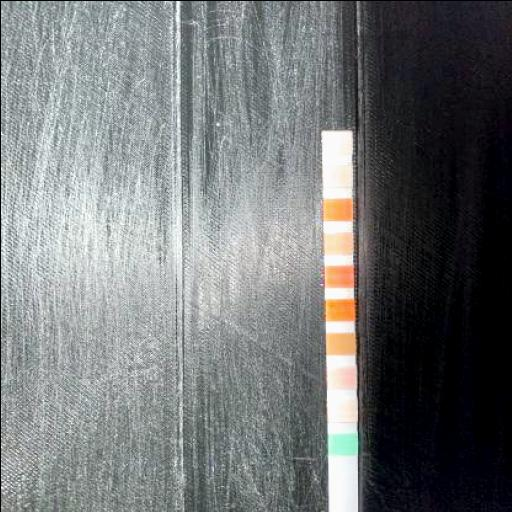Bilirubin: (328, 397, 356, 421)
Blood: (324, 298, 354, 320)
Glucose: (328, 433, 356, 454)
Ketone: (326, 366, 355, 388)
Leukocytes: (321, 130, 351, 154)
Nitrite: (322, 164, 351, 188)
Protein: (324, 232, 352, 254)
SpGravity: (326, 332, 354, 354)
Urobilinogen: (324, 198, 352, 220)
pH: (324, 264, 352, 286)
strip: (321, 130, 357, 511)
